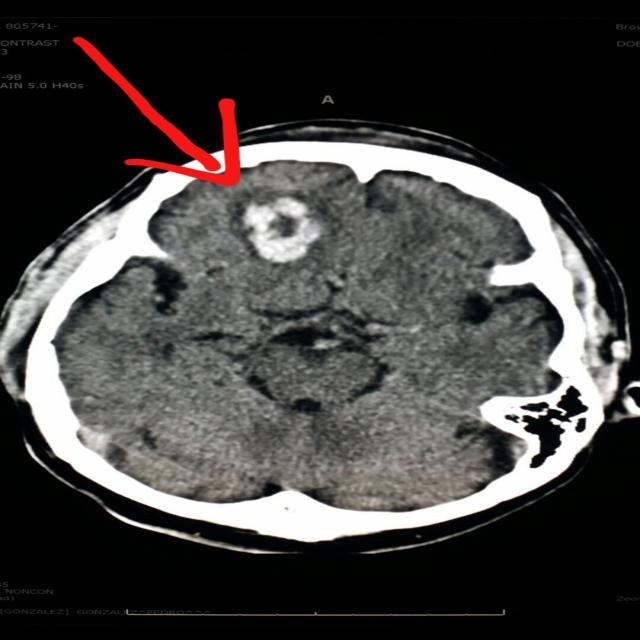Tumor: (240, 196, 329, 262)
